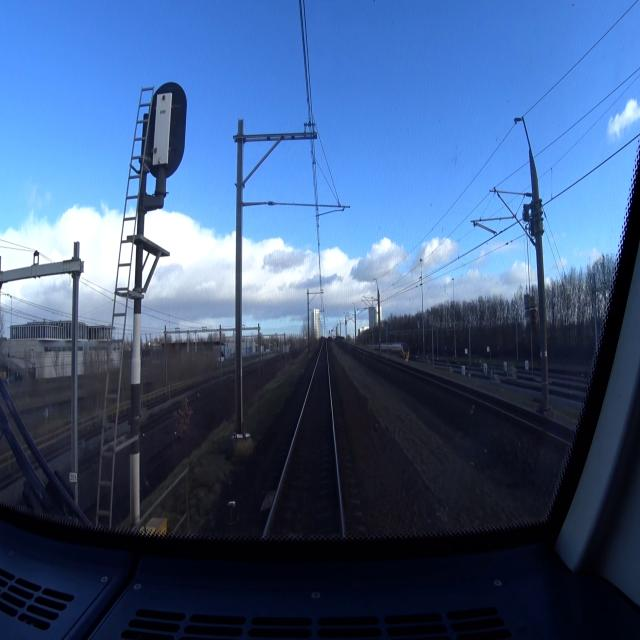rail-track: (267, 343, 341, 539), (453, 384, 574, 442)
